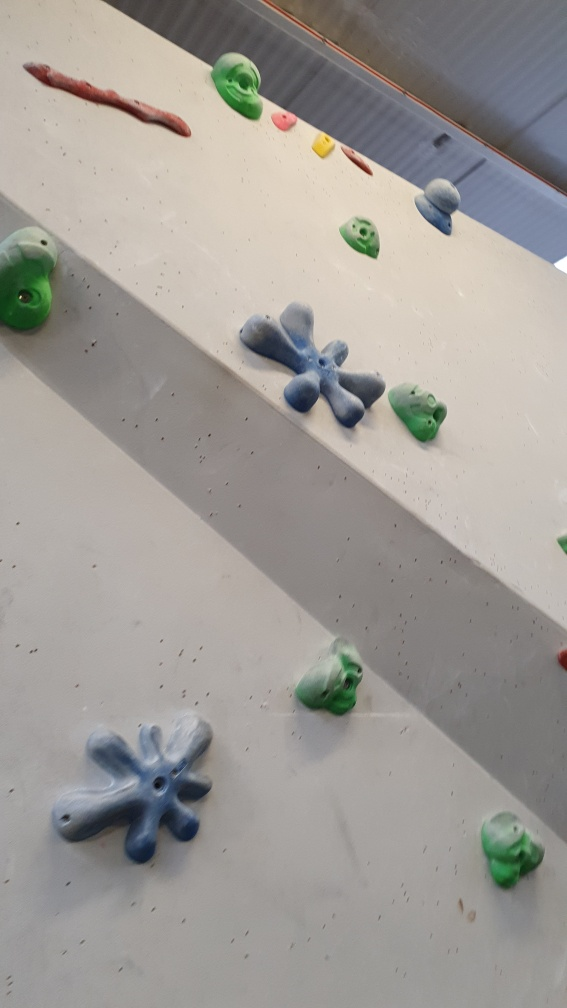Jug: (1, 219, 63, 337), (483, 805, 545, 894), (207, 49, 264, 121), (384, 380, 448, 444), (338, 214, 383, 261)
Octopus Pinch: (55, 716, 216, 861), (244, 297, 385, 425)
Sloper: (411, 174, 460, 235)
